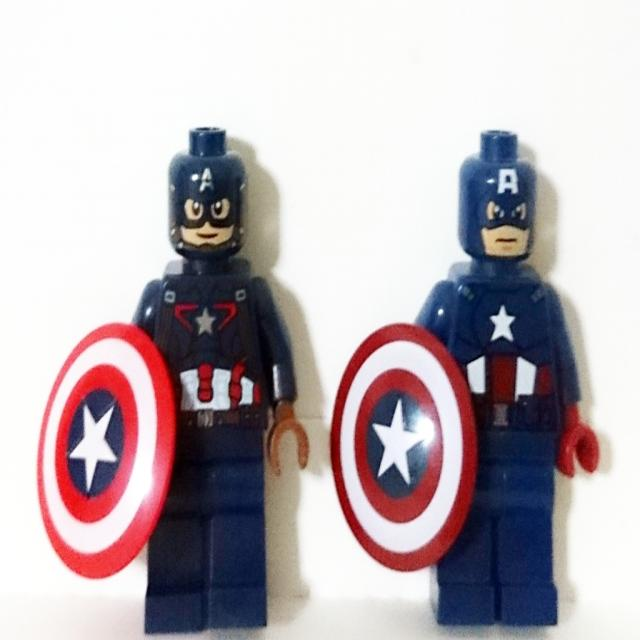Toy: (35, 120, 311, 627), (330, 128, 600, 628)
